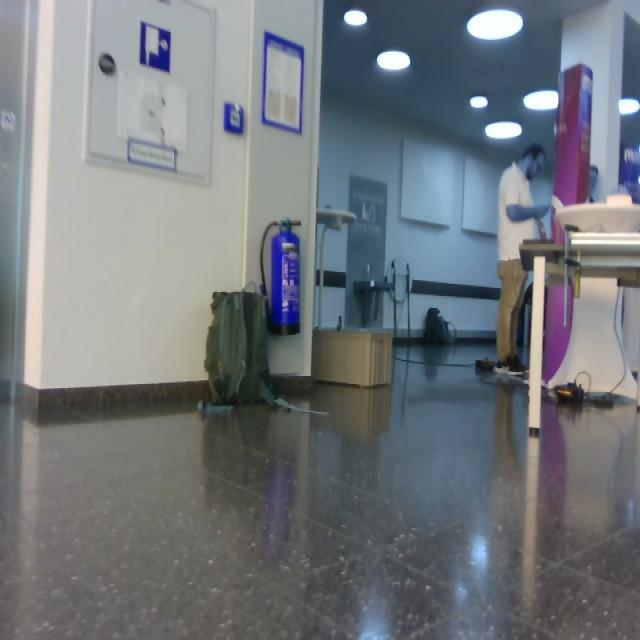door: (24, 1, 254, 390)
fire extinguisher: (260, 217, 302, 336)
light bulb: (467, 8, 524, 41), (523, 89, 559, 112), (377, 49, 411, 72), (485, 121, 523, 140), (344, 8, 368, 26), (618, 97, 640, 116), (470, 94, 489, 109)
person: (494, 144, 553, 374)
tiled floor: (1, 338, 640, 640)
